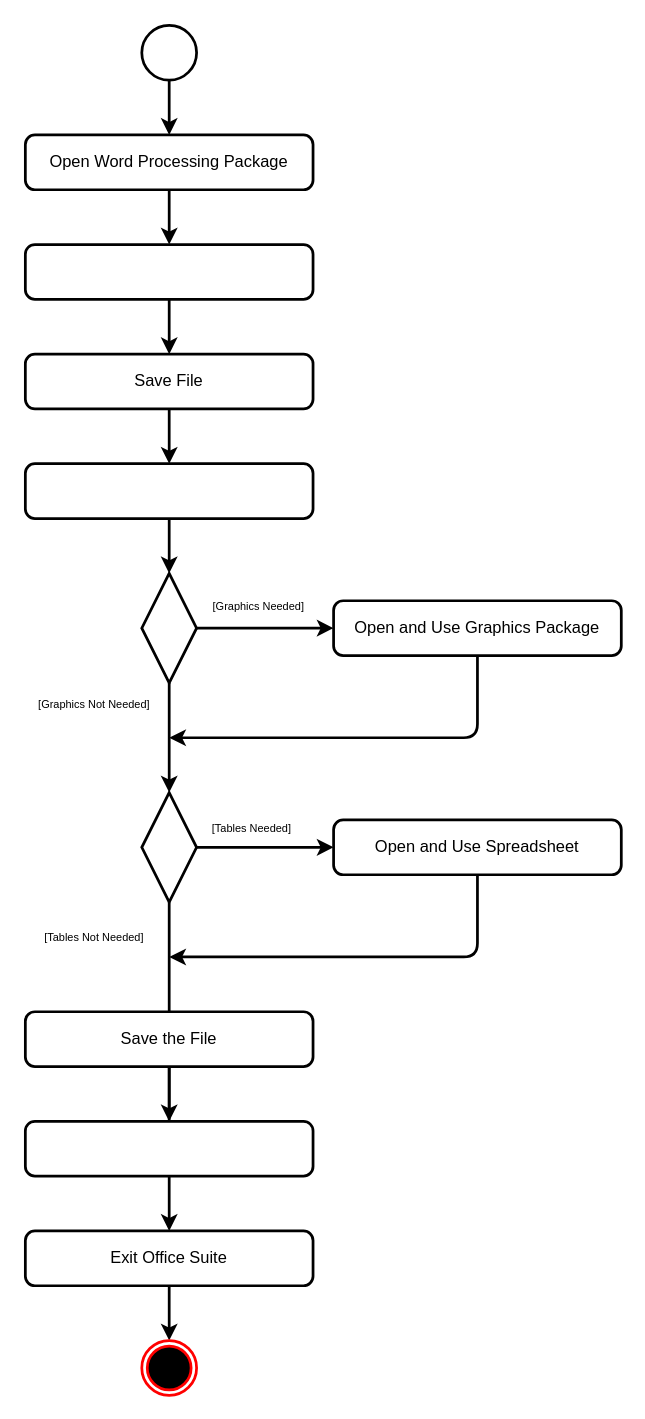
Some shapes in this 645 by 1419 pixel diagram are drawn without their labels. The shapes that lost their labels are listed below. From the top down, each one's centre as x and y in pixels, then its label:
(x=168, y=271): Create File
(x=168, y=490): Type the Document
(x=168, y=1148): Print Hand Copy
